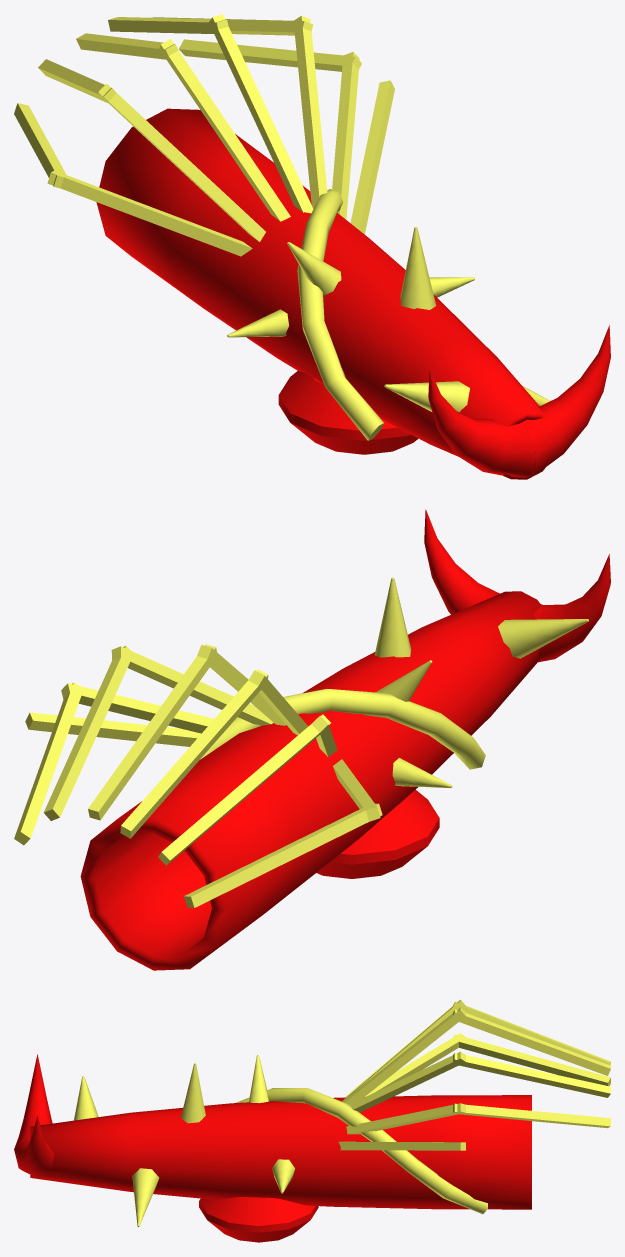
The model's file is Dragon.FBX.
3 renders of one model, top to bottom at view 1: azimuth 30°, elevation 25°; view 2: azimuth 150°, elevation 25°; view 3: azimuth 270°, elevation 25°, orthographic. The views are drawn at different scales.
Visible parts, largest first — view 1: Dragon; view 2: Dragon; view 3: Dragon.
Part boxes in pixels (x1,y1,x2,y2): Dragon: (14,14,610,479); Dragon: (14,509,610,970); Dragon: (14,999,610,1242).
Size of the model in its own units: 42.66 by 90.89 by 36.38.
